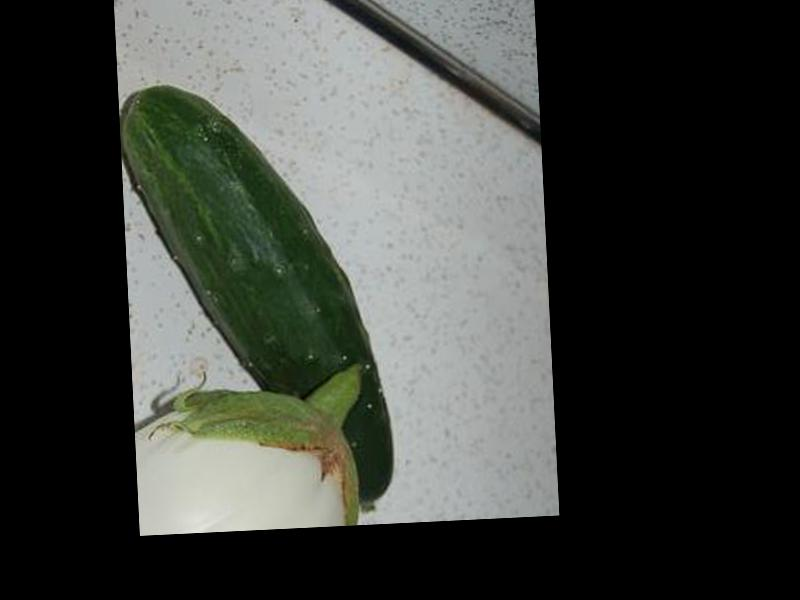Cucumber: (117, 76, 394, 523)
